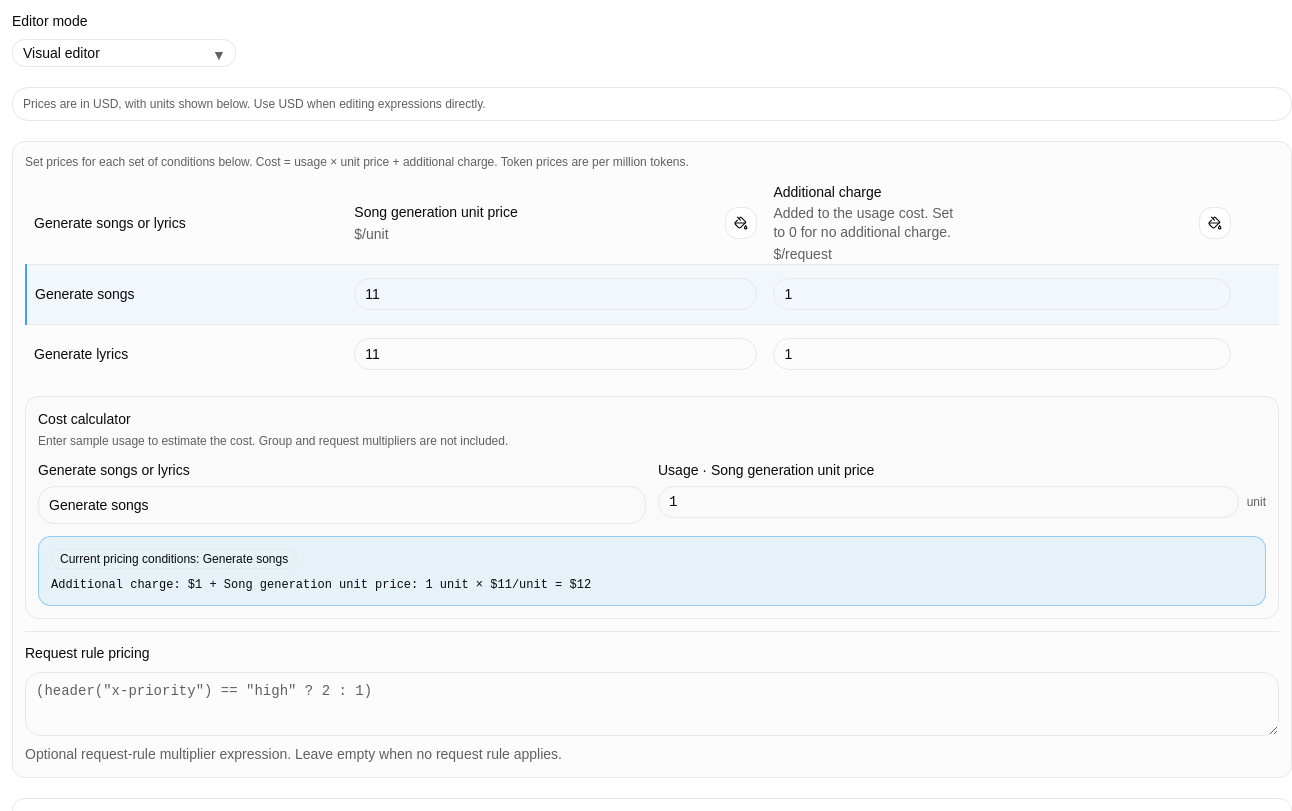
Test: identifies pricing conditions and keeps the additional charge unchanged when sample usage changes
Expected: the text "Current pricing conditions: Generate songs" is shown, [51,549,297,569]
Expected: the text "Additional charge: $1 + Song generation unit price: 1 unit × $11/unit = $12" is shown, [51,578,591,592]
Replace the text in the number field named "Usage · Song generation unit price" with "2": (948, 502) [658,486,1239,518]
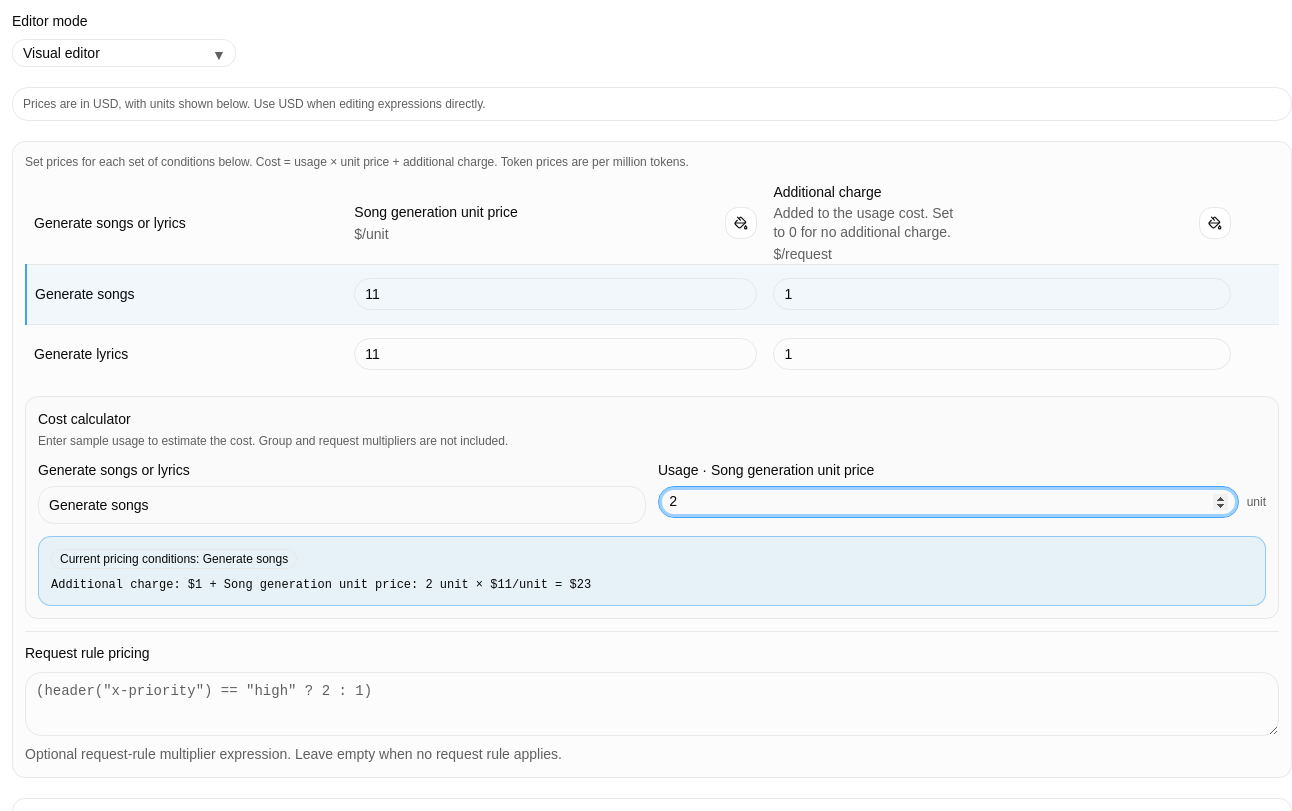
Now the text "Additional charge: $1 + Song generation unit price: 2 unit × $11/unit = $23" is shown, box [51,578,591,592]
